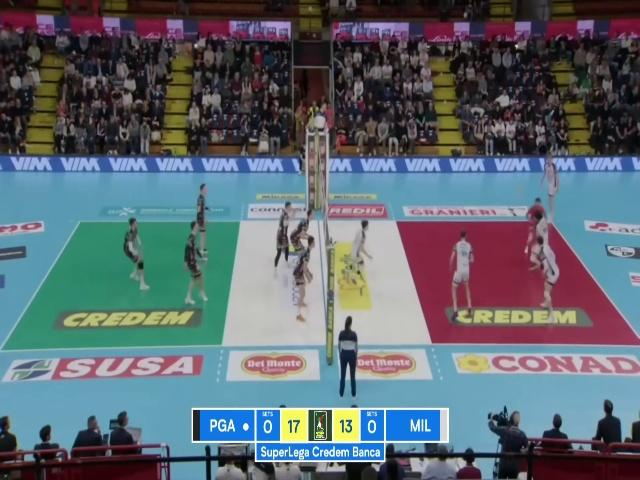volleyball court: (1, 215, 640, 352)
